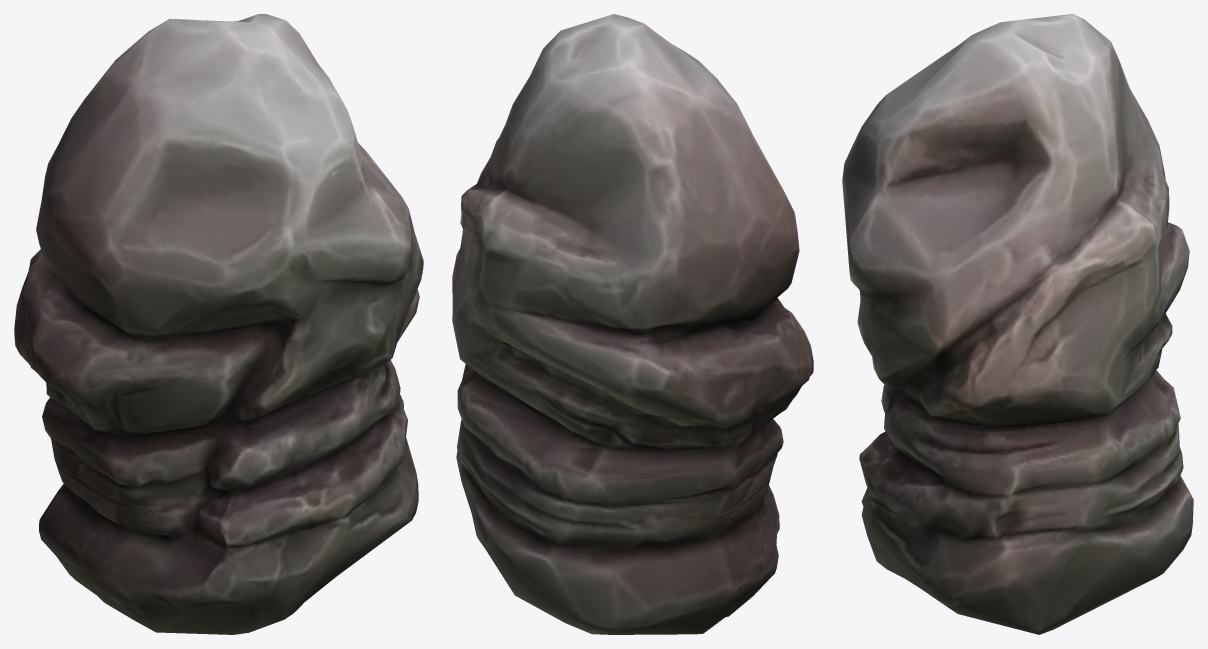
File: stone_big_4.glb
The picture shows the model from 3 angles, left to right: view 1: azimuth 30°, elevation 25°; view 2: azimuth 150°, elevation 25°; view 3: azimuth 270°, elevation 25°; orthographic projection.
Parts seen in each view (by area): view 1: Big_4; view 2: Big_4; view 3: Big_4.
Part boxes in pixels (<box>): Big_4: <box>14,14,423,634</box>; Big_4: <box>452,14,813,634</box>; Big_4: <box>842,14,1193,634</box>.
Bounding box in the file's own units: 3.32 × 5.14 × 2.82.
Materials: 1 (1 with a texture image).
